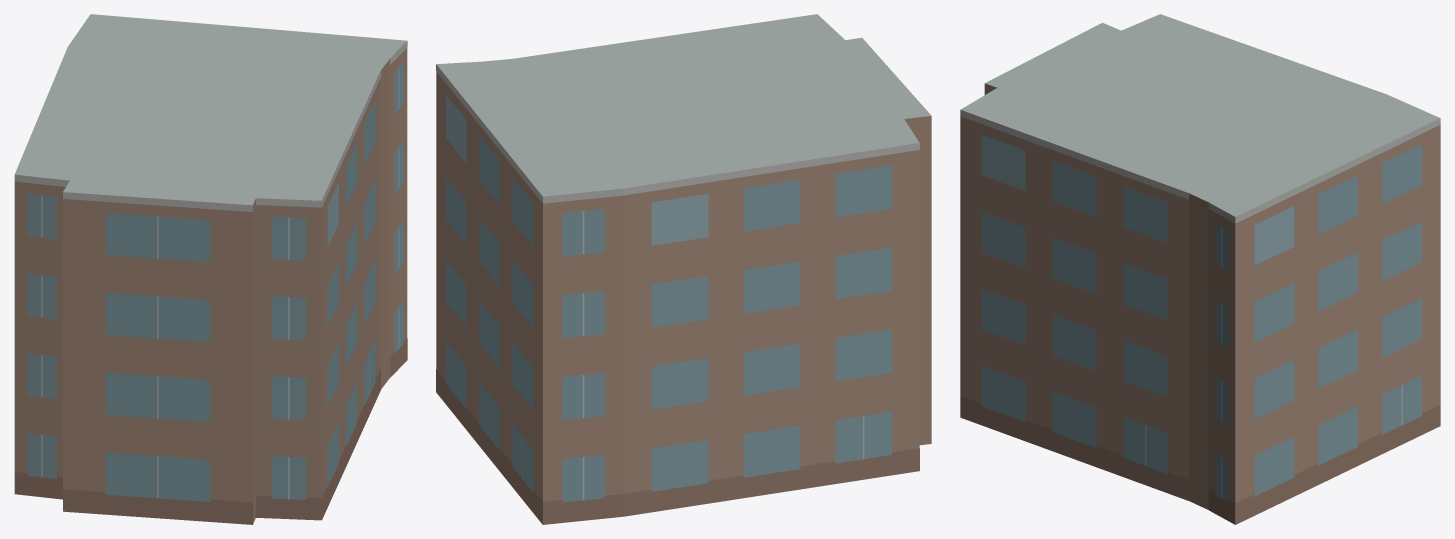
Rendered from survey-upis-32684130.glb.
The picture shows the model from 3 angles, left to right: view 1: azimuth 30°, elevation 25°; view 2: azimuth 150°, elevation 25°; view 3: azimuth 270°, elevation 25°; orthographic projection. The views are drawn at different scales.
Parts seen in each view (by area): view 1: survey-upis-32684130.tmp; view 2: survey-upis-32684130.tmp; view 3: survey-upis-32684130.tmp.
Part boxes in pixels (x1,y1,x2,y2): survey-upis-32684130.tmp: (14, 14, 407, 524); survey-upis-32684130.tmp: (436, 14, 931, 524); survey-upis-32684130.tmp: (960, 14, 1440, 524).
Bounding box in the file's own units: 16.28 × 11.5 × 16.27.
